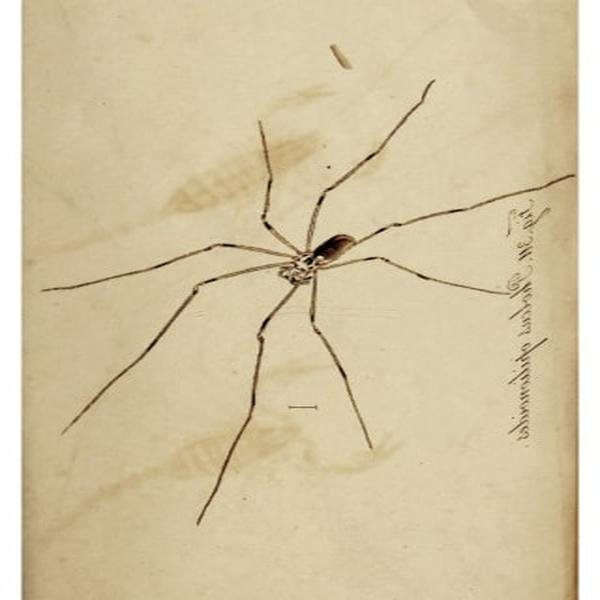Daddy Long Legs Spider: (49, 84, 570, 523)
